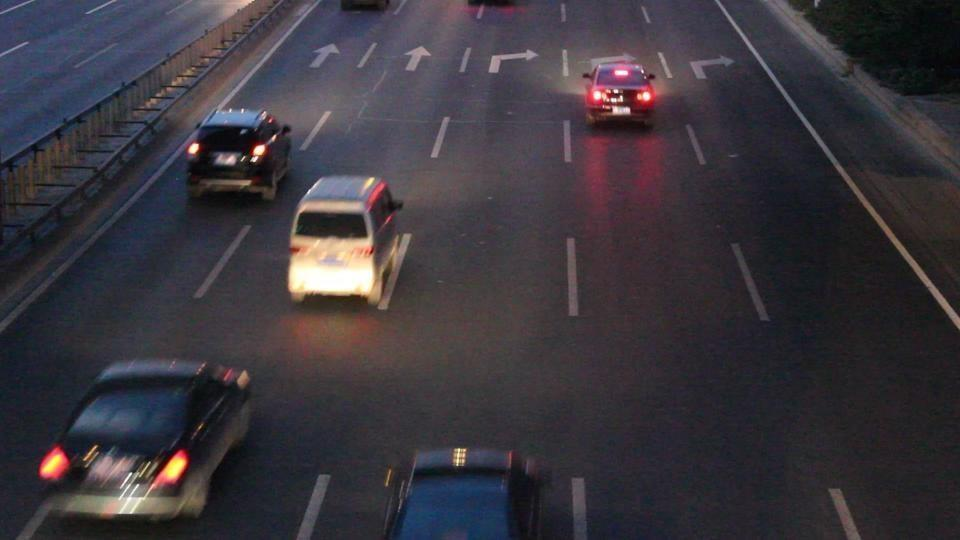car: (36, 358, 254, 530), (286, 175, 407, 306), (381, 446, 552, 538), (183, 107, 293, 202), (584, 61, 659, 129)
